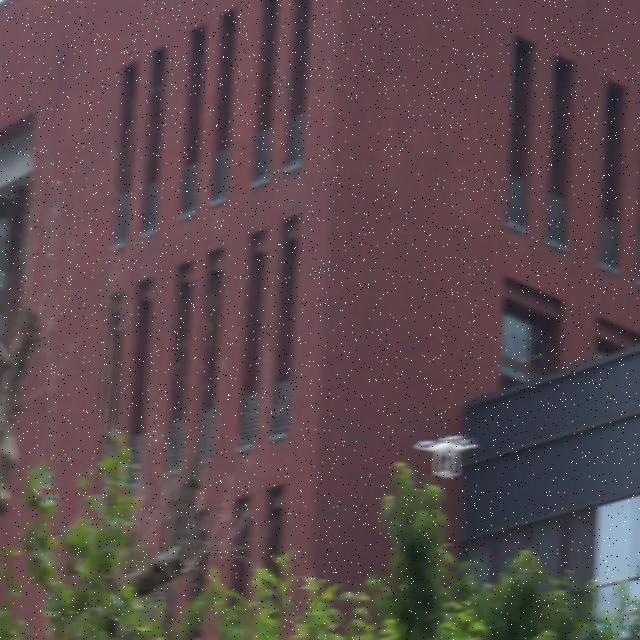UAV: (412, 434, 480, 478)
